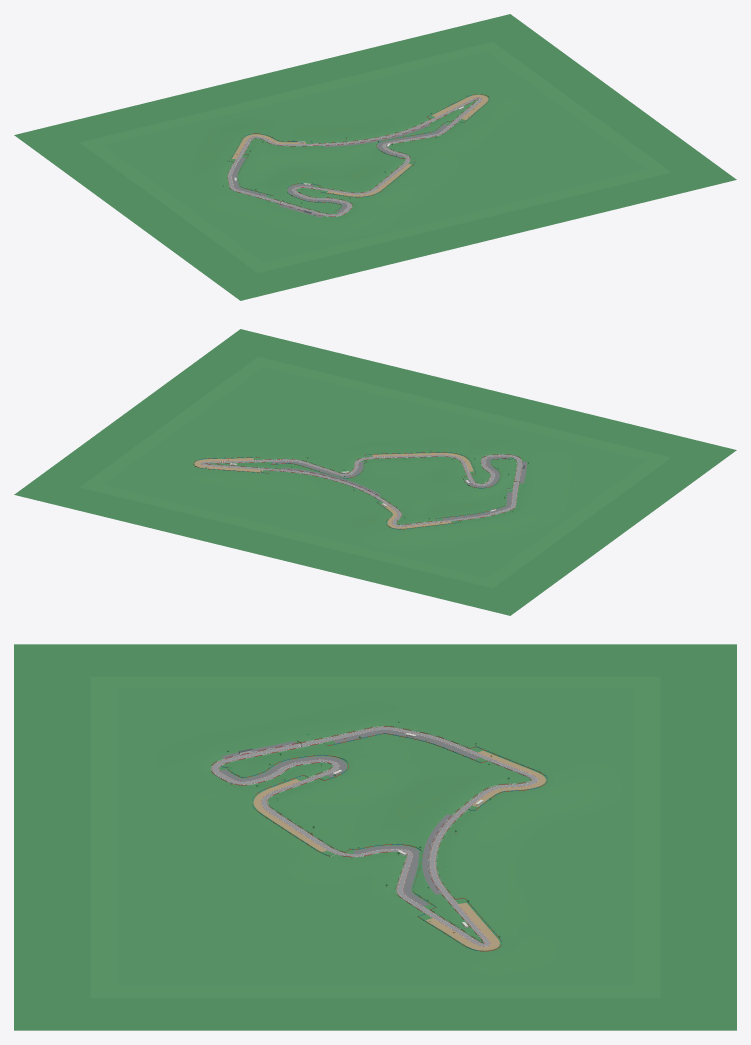
The model's file is hockenheim.glb.
The picture shows the model from 3 angles, top to bottom: view 1: azimuth 30°, elevation 25°; view 2: azimuth 150°, elevation 25°; view 3: azimuth 270°, elevation 25°; orthographic projection. The views are drawn at different scales.
Parts seen in each view (by area): view 1: terrain_infield, terrain_outskirts, terrain_verge, track_surface, asphalt_runoff_zones, continuous_safety_barriers, track_runoff, gravel_runoff_zones, track_embankment; view 2: terrain_infield, terrain_outskirts, terrain_verge, track_surface, asphalt_runoff_zones, continuous_safety_barriers, track_runoff, gravel_runoff_zones, track_embankment; view 3: terrain_infield, terrain_outskirts, terrain_verge, track_surface, asphalt_runoff_zones, gravel_runoff_zones, continuous_safety_barriers, track_runoff, track_embankment, track_curbs.
Part boxes in pixels (box(x1,y1,x2,y2)): terrain_infield: box(103, 51, 647, 263); terrain_outskirts: box(14, 14, 736, 300); terrain_verge: box(79, 41, 671, 273); track_surface: box(228, 97, 481, 216); asphalt_runoff_zones: box(232, 124, 448, 217); continuous_safety_barriers: box(227, 94, 488, 216); track_runoff: box(228, 97, 482, 216); gravel_runoff_zones: box(232, 95, 488, 196); track_embankment: box(227, 99, 477, 216); terrain_infield: box(103, 366, 647, 578); terrain_outskirts: box(14, 329, 736, 615); terrain_verge: box(79, 356, 671, 588); track_surface: box(201, 455, 521, 526); asphalt_runoff_zones: box(272, 456, 526, 520); continuous_safety_barriers: box(193, 452, 522, 529); track_runoff: box(200, 454, 522, 526); gravel_runoff_zones: box(194, 453, 473, 528); track_embankment: box(206, 454, 522, 524); terrain_infield: box(118, 688, 632, 986); terrain_outskirts: box(14, 644, 736, 1030); terrain_verge: box(90, 676, 660, 998); track_surface: box(212, 727, 537, 946); asphalt_runoff_zones: box(219, 729, 479, 906); gravel_runoff_zones: box(253, 750, 545, 950); continuous_safety_barriers: box(210, 726, 547, 951); track_runoff: box(211, 726, 538, 946); track_embankment: box(210, 726, 531, 943); track_curbs: box(212, 727, 538, 946).
Size of the model in its own units: 2634 by 16.02 by 2082.
